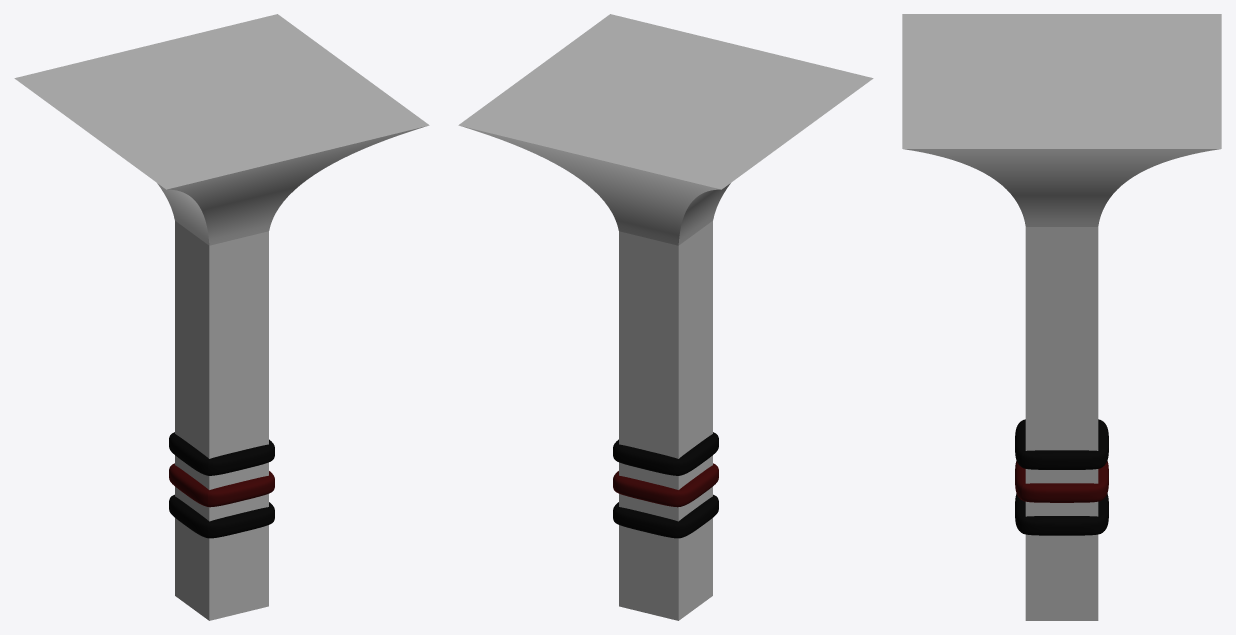
File: Column.FBX
The picture shows the model from 3 angles, left to right: view 1: azimuth 30°, elevation 25°; view 2: azimuth 150°, elevation 25°; view 3: azimuth 270°, elevation 25°; orthographic projection. The views are drawn at different scales.
Visible parts, largest first — view 1: Box003, Box001, Box002, Box004, Box005; view 2: Box003, Box001, Box002, Box004, Box005; view 3: Box003, Box001, Box005, Box002, Box004.
Boxes of the visible parts, x1,y1,x2,y2 form: Box003: (14, 14, 429, 245); Box001: (175, 221, 268, 620); Box002: (169, 463, 274, 507); Box004: (169, 494, 274, 538); Box005: (169, 432, 274, 475); Box003: (458, 14, 873, 245); Box001: (619, 221, 712, 620); Box002: (613, 463, 718, 507); Box004: (613, 494, 718, 538); Box005: (613, 432, 718, 475); Box003: (902, 14, 1221, 226); Box001: (1025, 227, 1098, 620); Box005: (1015, 419, 1108, 469); Box002: (1015, 461, 1108, 502); Box004: (1015, 493, 1108, 535).
Size of the model in its own units: 88.2 by 160 by 88.2.
